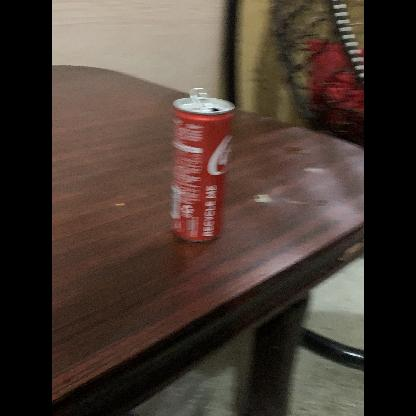Lid_Open: (186, 84, 219, 116)
Tin_Can: (167, 86, 235, 252)
